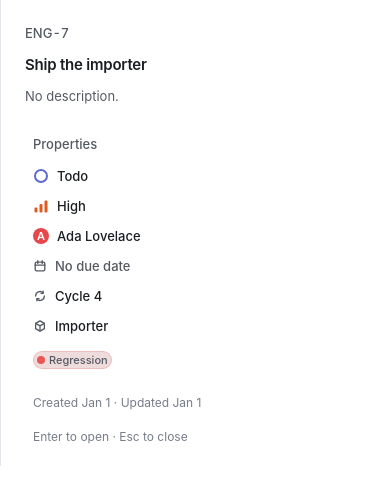
Peek’s properties rail, once it became editable › closes the picker on Escape and leaves the panel standing
Step 1. Click the button "Todo" → click(61, 176), box [25, 162, 96, 190]
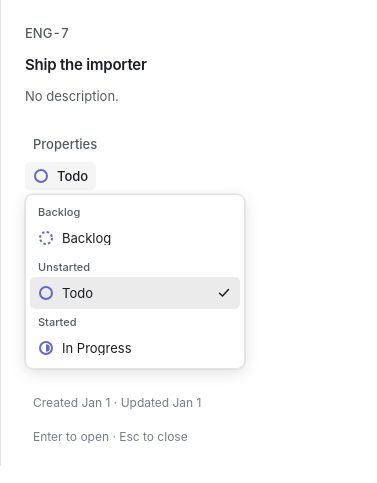
Now the menu is shown, box [30, 199, 240, 364]
Step 2. Press Escape
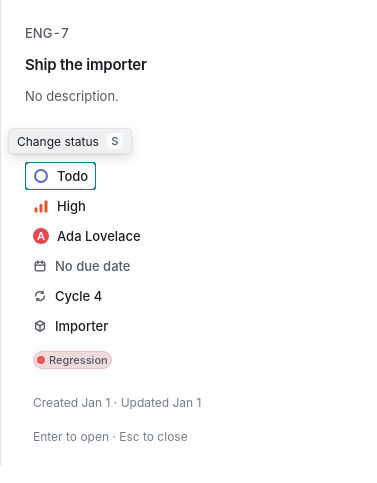
Now the menu is gone
